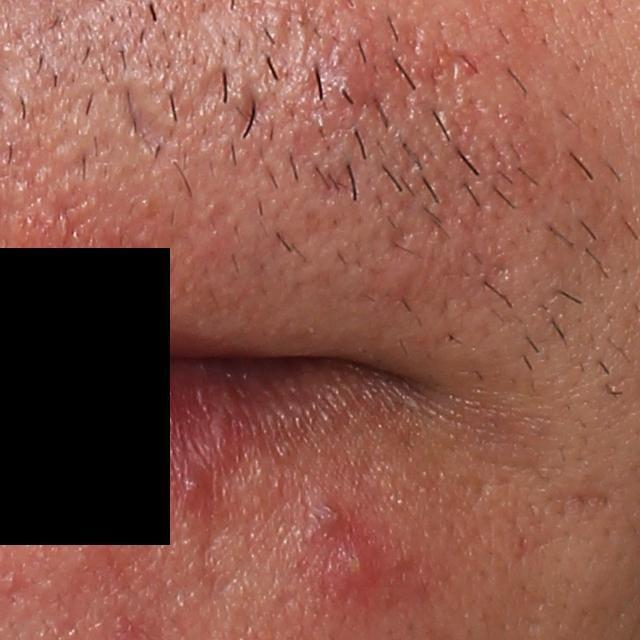atrophic_scar: (116, 80, 193, 158), (236, 76, 281, 145), (188, 65, 236, 122), (535, 484, 615, 513)
papule: (317, 536, 381, 590), (176, 470, 205, 501)
